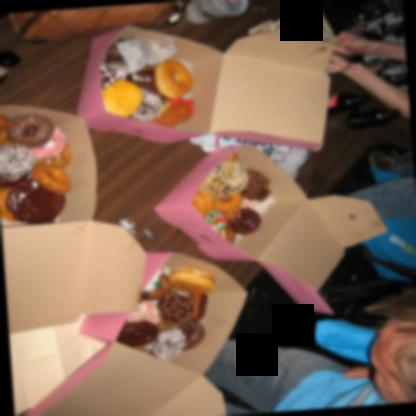handbag: (5, 1, 192, 42)
